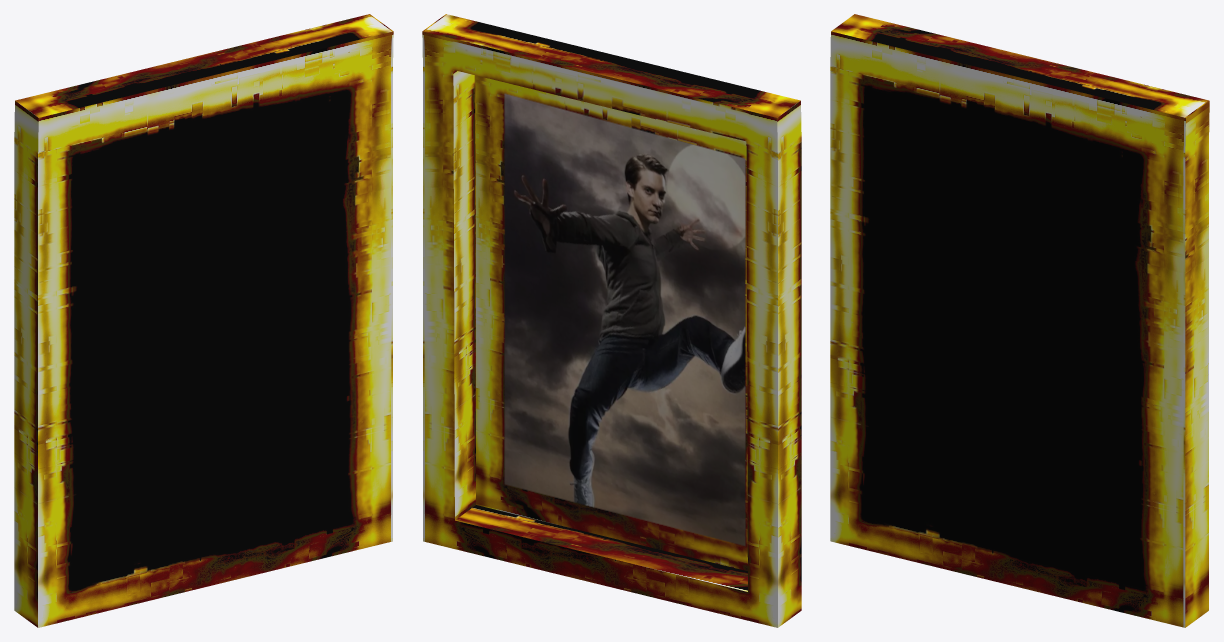
Rendered from cadree.fbx.
The picture shows the model from 3 angles, left to right: view 1: azimuth 30°, elevation 25°; view 2: azimuth 150°, elevation 25°; view 3: azimuth 330°, elevation 25°; orthographic projection.
Visible parts, largest first — view 1: pCube2; view 2: pCube1, pCube2; view 3: pCube2.
Boxes of the visible parts, x1=… form: pCube2: x1=14, y1=14, x2=393, y2=627; pCube1: x1=476, y1=75, x2=747, y2=571; pCube2: x1=422, y1=14, x2=801, y2=627; pCube2: x1=830, y1=14, x2=1209, y2=627.
Size of the model in its own units: 1.96 by 2.69 by 0.2269.
